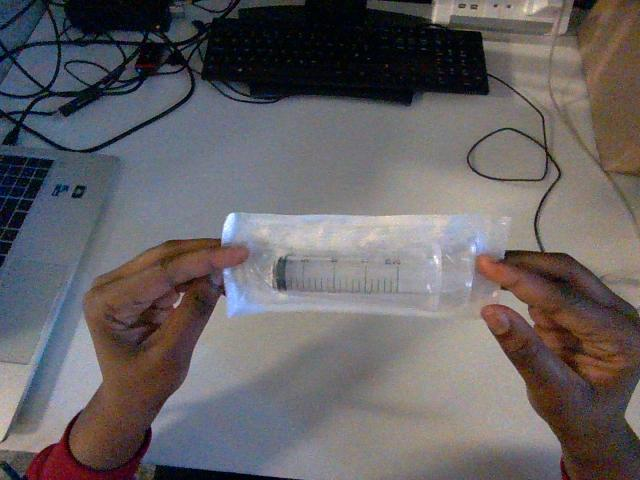syringe: (222, 213, 509, 316)
